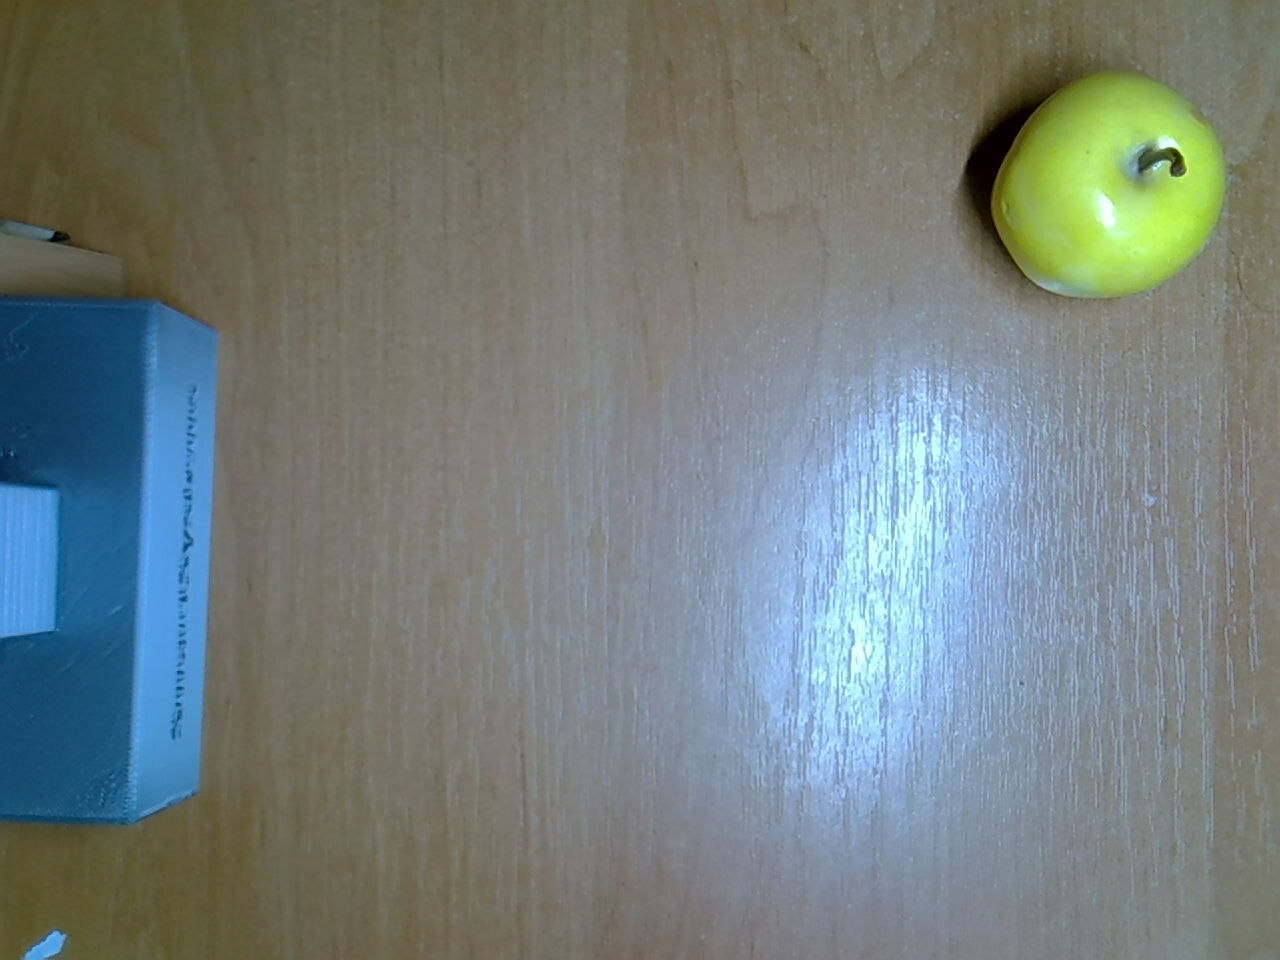apple: (979, 59, 1233, 304)
